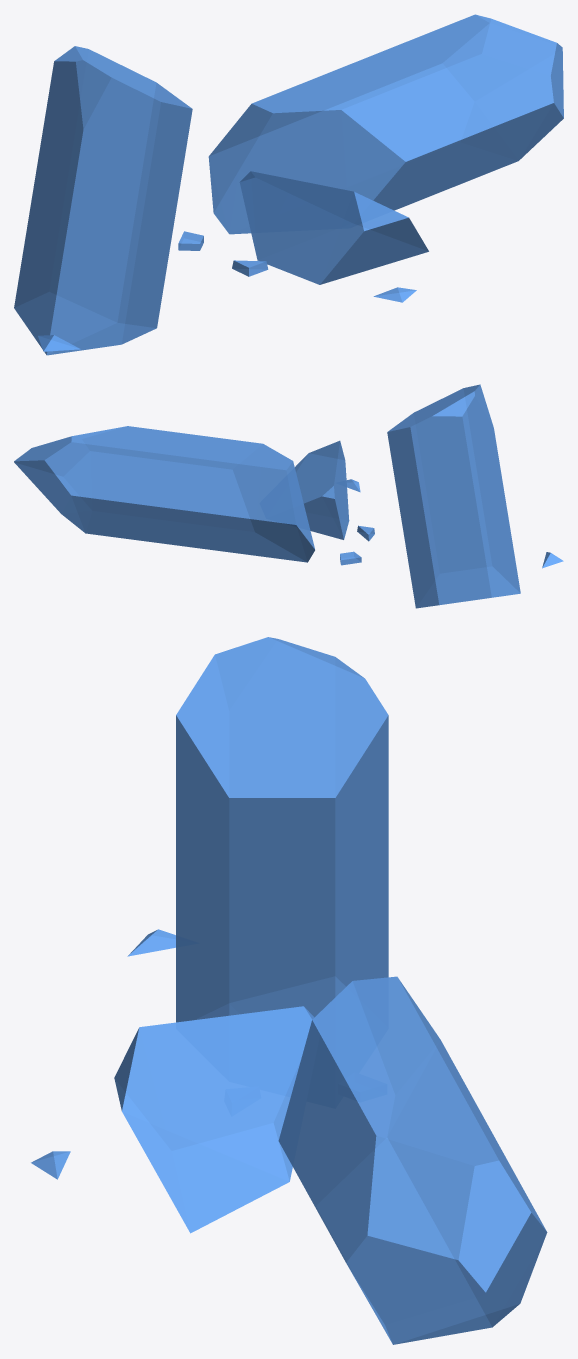
File: Crystal_crk_m_02.fbx
3 renders of one model, top to bottom at view 1: azimuth 30°, elevation 25°; view 2: azimuth 150°, elevation 25°; view 3: azimuth 270°, elevation 25°, orthographic. The views are drawn at different scales.
Parts seen in each view (by area): view 1: Crystal_crk_m_02; view 2: Crystal_crk_m_02; view 3: Crystal_crk_m_02.
Boxes of the visible parts, x1=… form: Crystal_crk_m_02: x1=14, y1=14, x2=563, y2=355; Crystal_crk_m_02: x1=14, y1=384, x2=563, y2=608; Crystal_crk_m_02: x1=31, y1=637, x2=547, y2=1344.
Size of the model in its own units: 2.21 by 0.9773 by 1.06.
